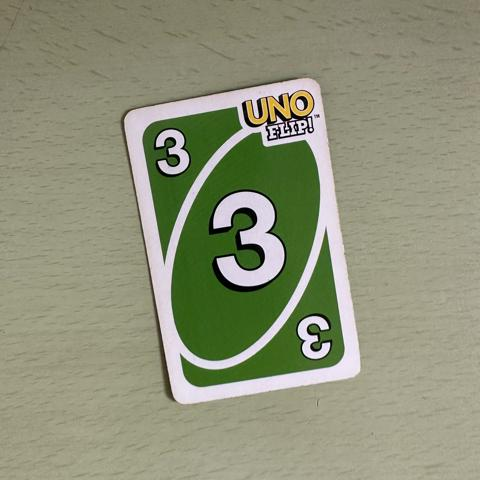1_red: (201, 185, 294, 294), (145, 123, 197, 177), (292, 313, 337, 363)
